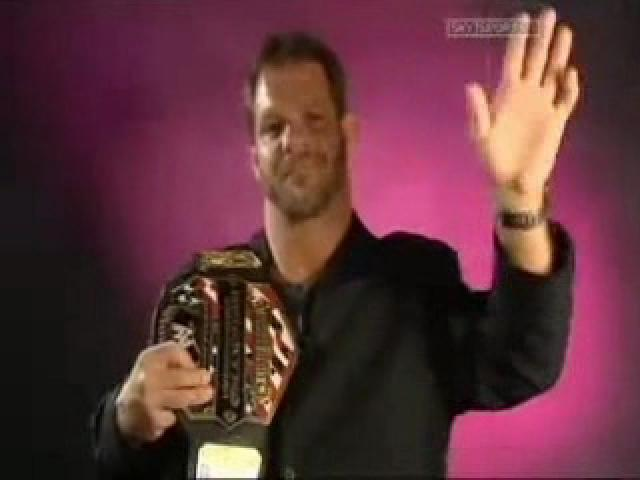L: (93, 24, 576, 478)
